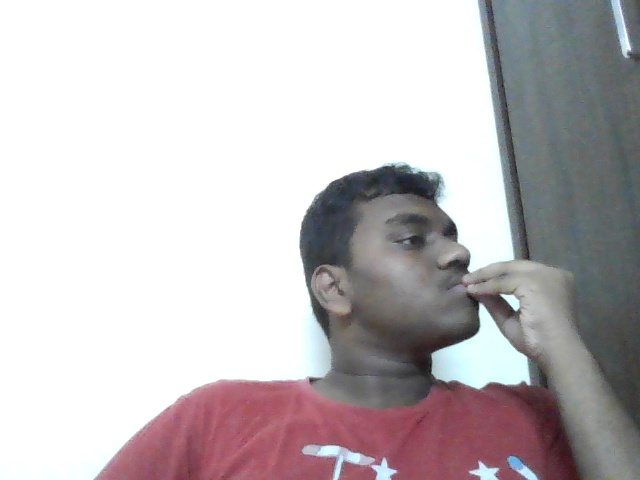Eat: (444, 258, 609, 372)
